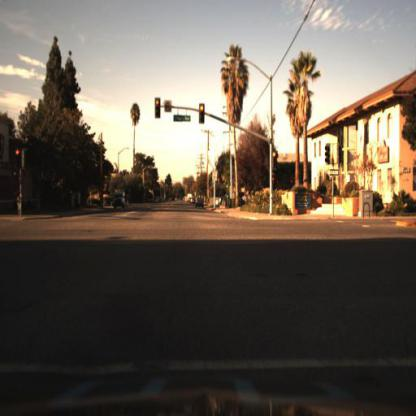car: (195, 194, 208, 211)
pedestrian: (17, 192, 23, 218)
trafficLight-Red: (198, 99, 208, 126), (273, 149, 281, 177)
trafficLight-RedLeft: (14, 141, 23, 175), (153, 95, 163, 123)
